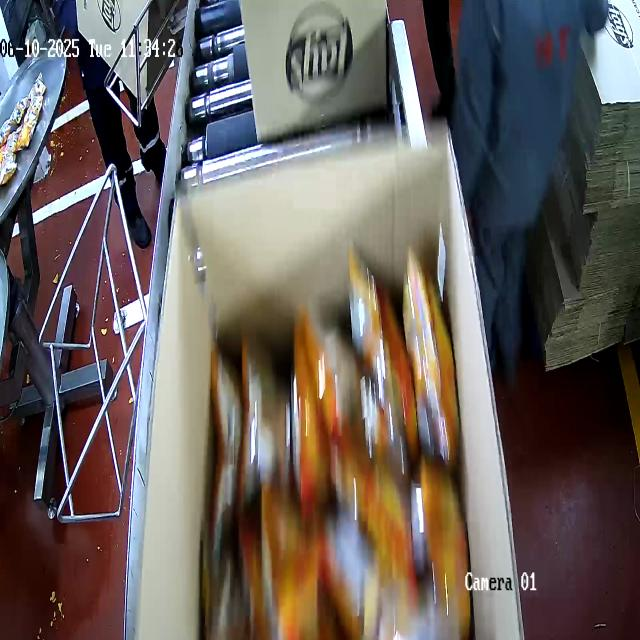FRENCH_CHEESE: (200, 260, 466, 632)
